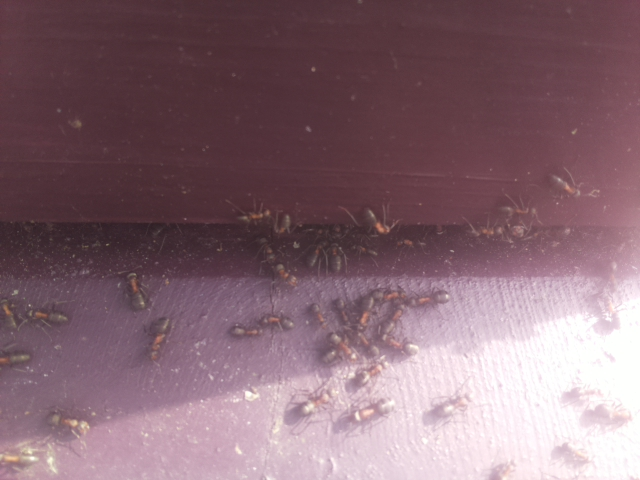ant: (489, 190, 545, 246), (335, 391, 403, 433), (283, 382, 343, 424), (38, 404, 97, 444), (315, 325, 365, 371), (389, 286, 457, 315), (141, 312, 178, 364), (347, 353, 395, 391), (121, 265, 154, 318), (358, 202, 395, 242), (542, 171, 590, 200), (378, 330, 423, 360), (549, 439, 594, 468), (20, 303, 74, 327), (433, 392, 474, 421), (459, 219, 508, 242), (0, 292, 19, 337), (235, 205, 273, 226), (271, 260, 299, 288), (304, 303, 330, 332), (0, 348, 30, 370), (486, 462, 514, 480), (225, 325, 263, 338)
